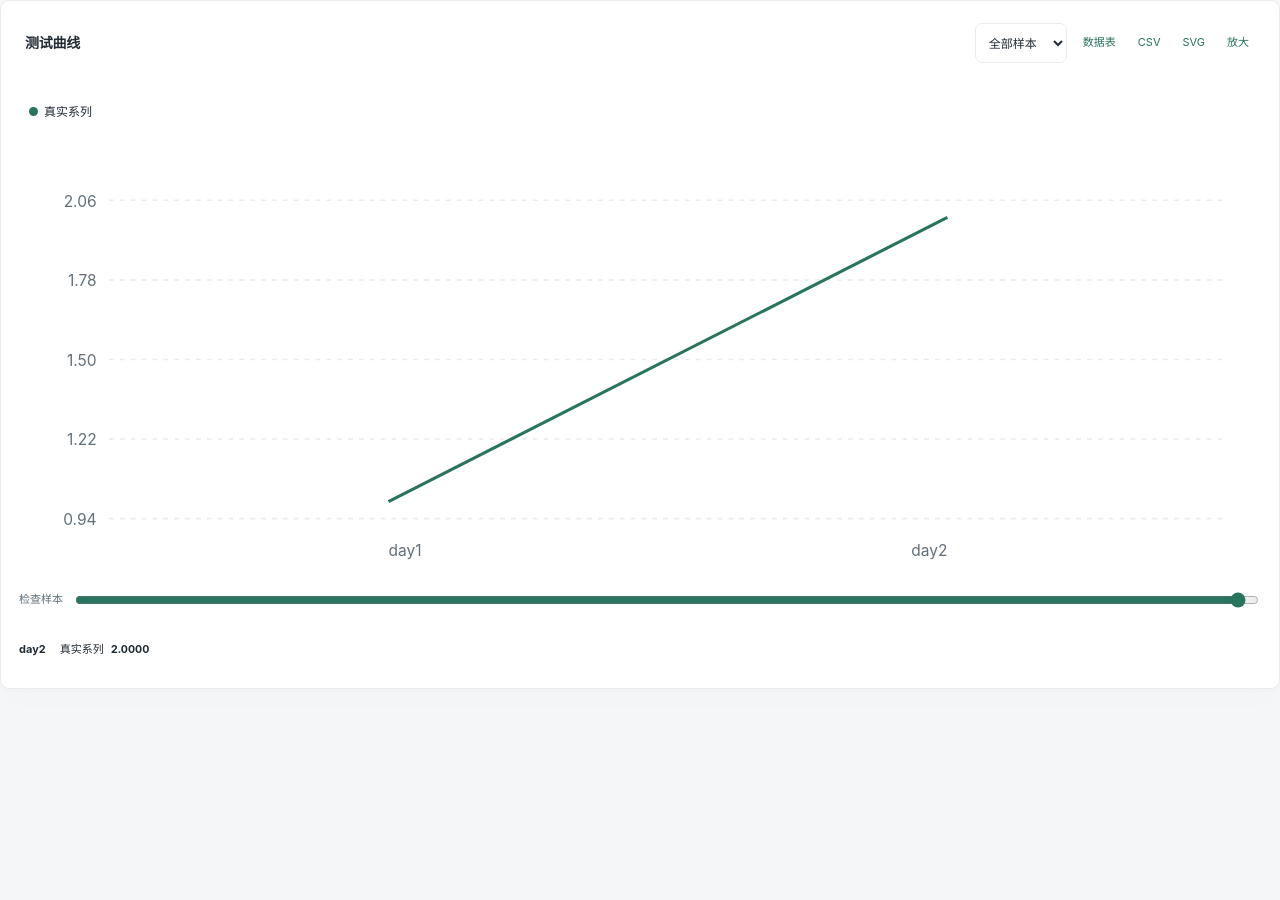
keeps legend controls reachable after hiding every series
Click the button "真实系列" at (60, 112), box [23,101,98,122]
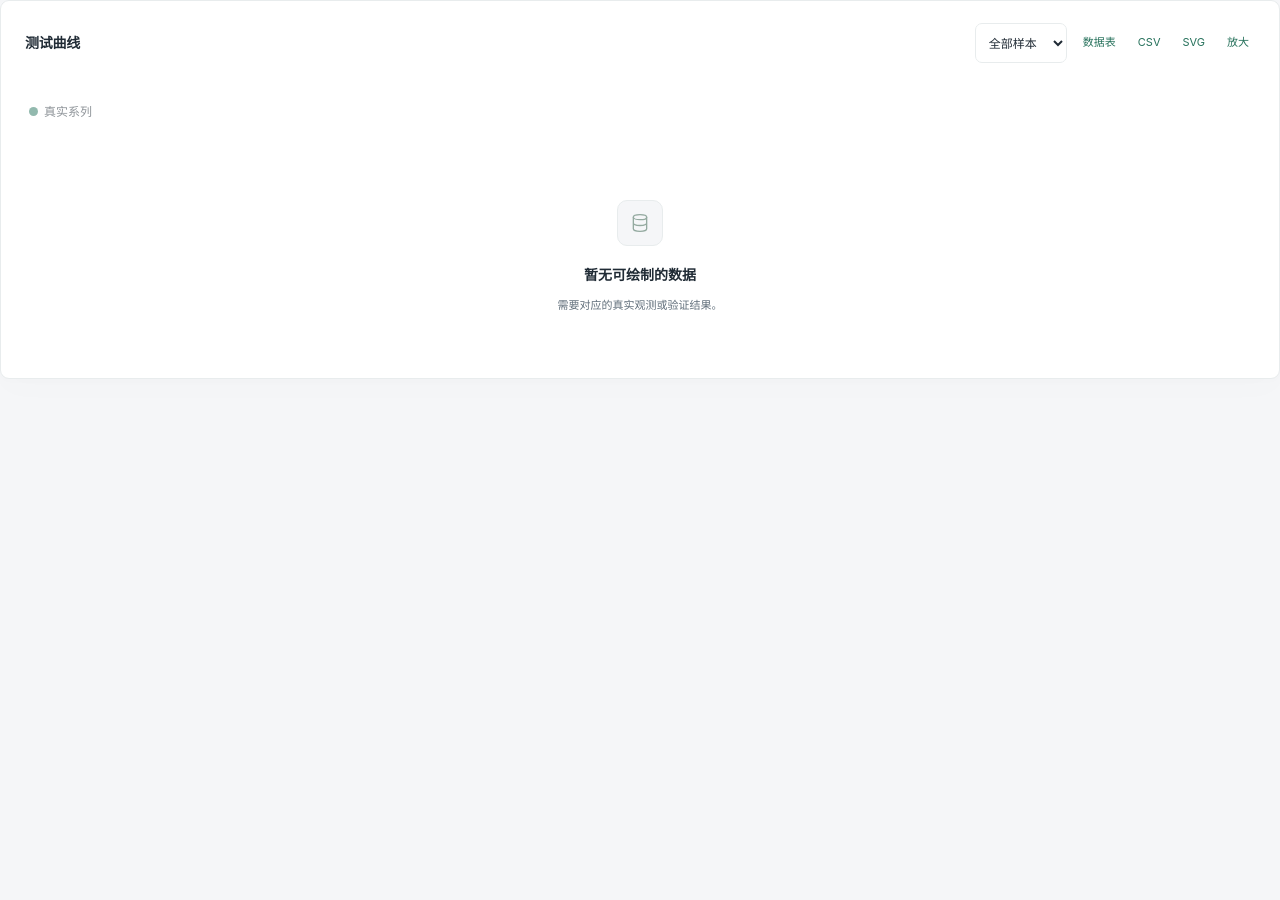
Click the button "真实系列" at (60, 112), box [23,101,98,122]
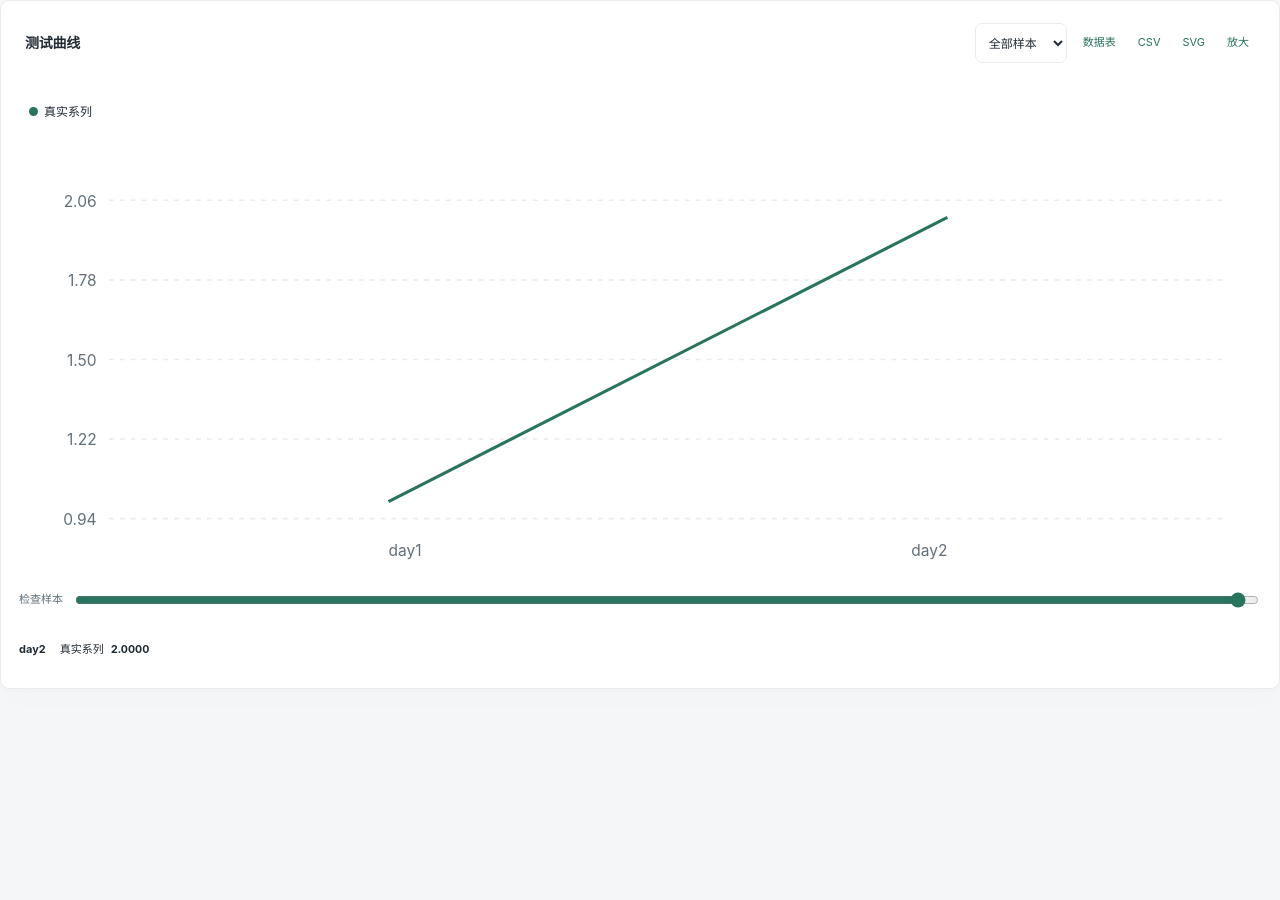
Expected: the picture is shown, [19,146,1261,578]
